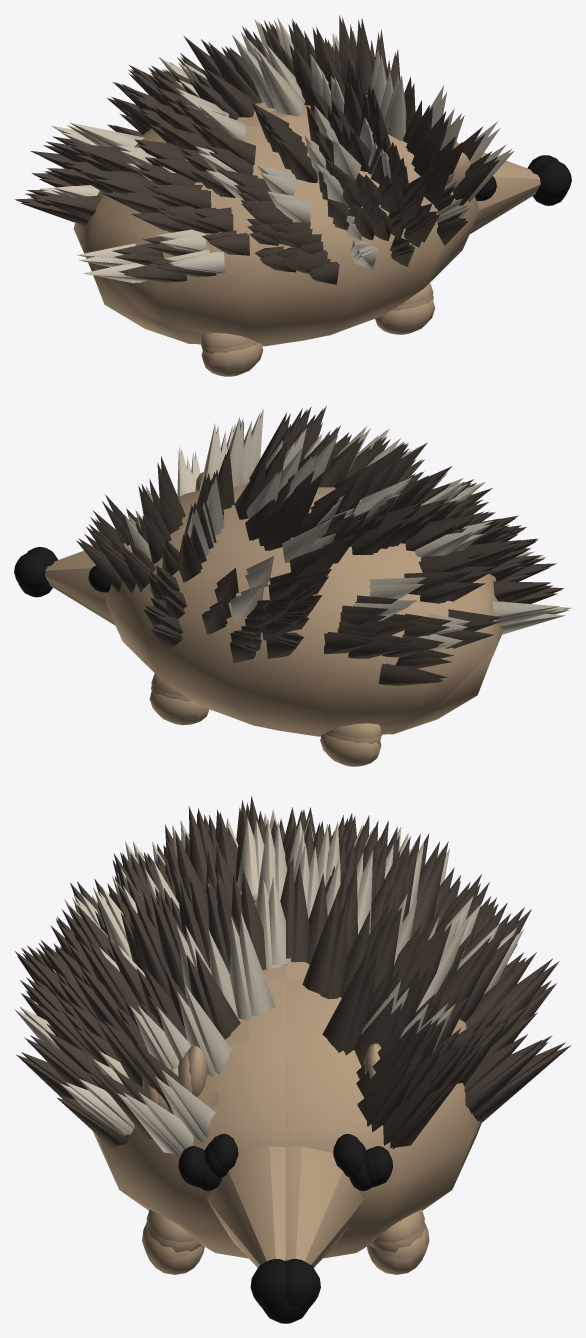
File: jezek.glb
The picture shows the model from 3 angles, top to bottom: view 1: azimuth 30°, elevation 25°; view 2: azimuth 150°, elevation 25°; view 3: azimuth 270°, elevation 25°; orthographic projection. The views are drawn at different scales.
Visible parts, largest first — view 1: jezek_telo_02, jezek_telo_05, jezek_telo_00, jezek_telo_06, jezek_telo_01; view 2: jezek_telo_06, jezek_telo_01, jezek_telo_00, jezek_telo_02, jezek_telo_05; view 3: jezek_telo_06, jezek_telo_02, jezek_telo_01, jezek_telo_00, jezek_telo_05.
Part boxes in pixels (bbox=[...]): jezek_telo_02: bbox=[26, 17, 571, 370]; jezek_telo_05: bbox=[16, 17, 500, 353]; jezek_telo_00: bbox=[20, 24, 567, 376]; jezek_telo_06: bbox=[15, 15, 558, 348]; jezek_telo_01: bbox=[25, 20, 566, 370]; jezek_telo_06: bbox=[14, 408, 558, 760]; jezek_telo_01: bbox=[90, 408, 569, 744]; jezek_telo_00: bbox=[18, 415, 565, 766]; jezek_telo_02: bbox=[27, 405, 570, 738]; jezek_telo_05: bbox=[19, 410, 561, 761]; jezek_telo_06: bbox=[52, 795, 570, 1305]; jezek_telo_02: bbox=[14, 806, 531, 1305]; jezek_telo_01: bbox=[19, 808, 537, 1310]; jezek_telo_00: bbox=[32, 812, 552, 1323]; jezek_telo_05: bbox=[46, 800, 565, 1310].
Size of the model in its own units: 0.3608 by 0.1917 by 0.2515.
Materials: 1 (1 with a texture image).
